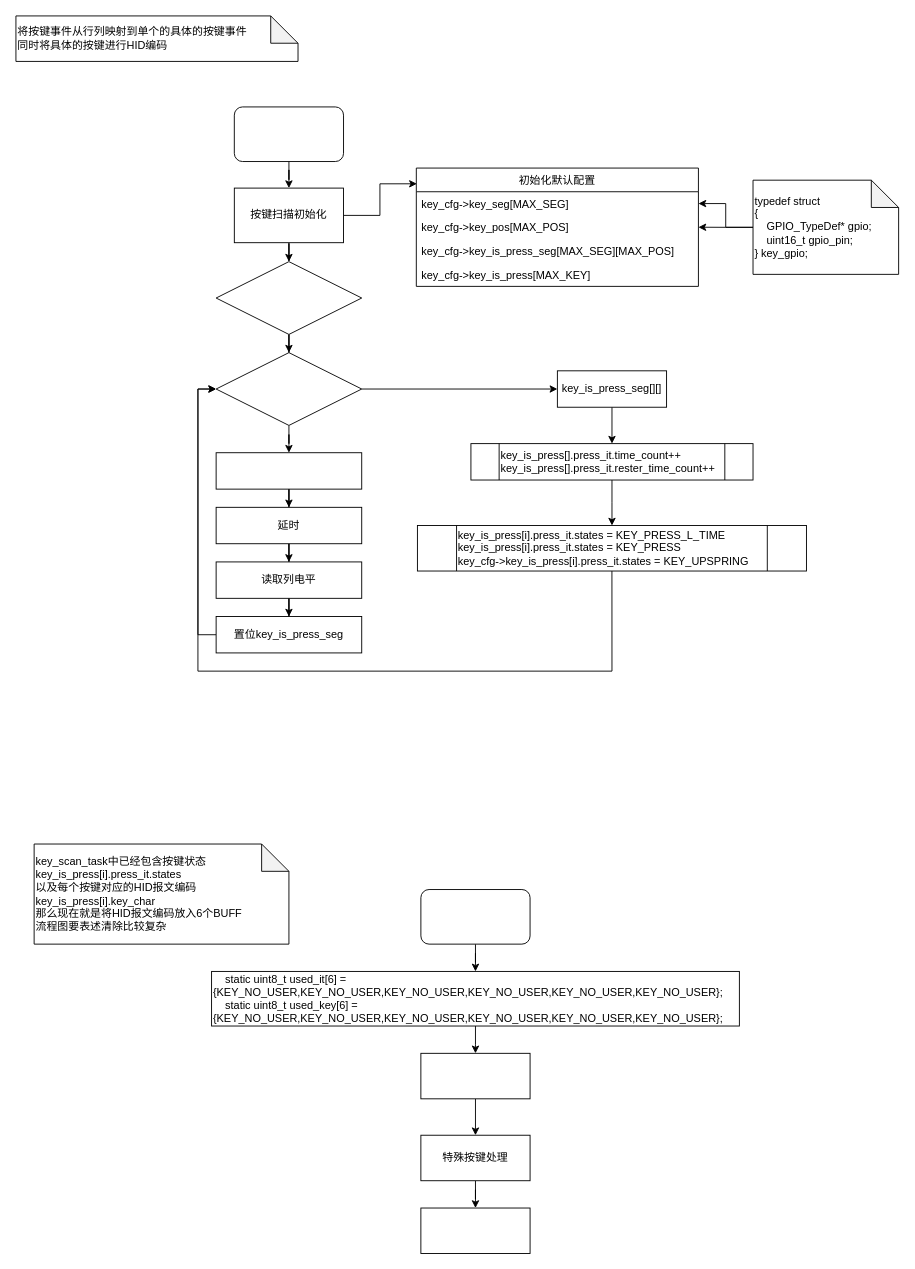
This 915x1269 diagram has some shape labels left out. Each missing label, with the centre of its shape:
i=1;i<=MAX_SEG;i++: (288,388)
while(1): (288,297)
六键无冲算法: (475,916)
按键扫描算法: (288,134)
按键松手检测: (475,1075)
设置行电平(i行拉高其他行拉低）: (288,470)
非特殊按键入队: (475,1230)
